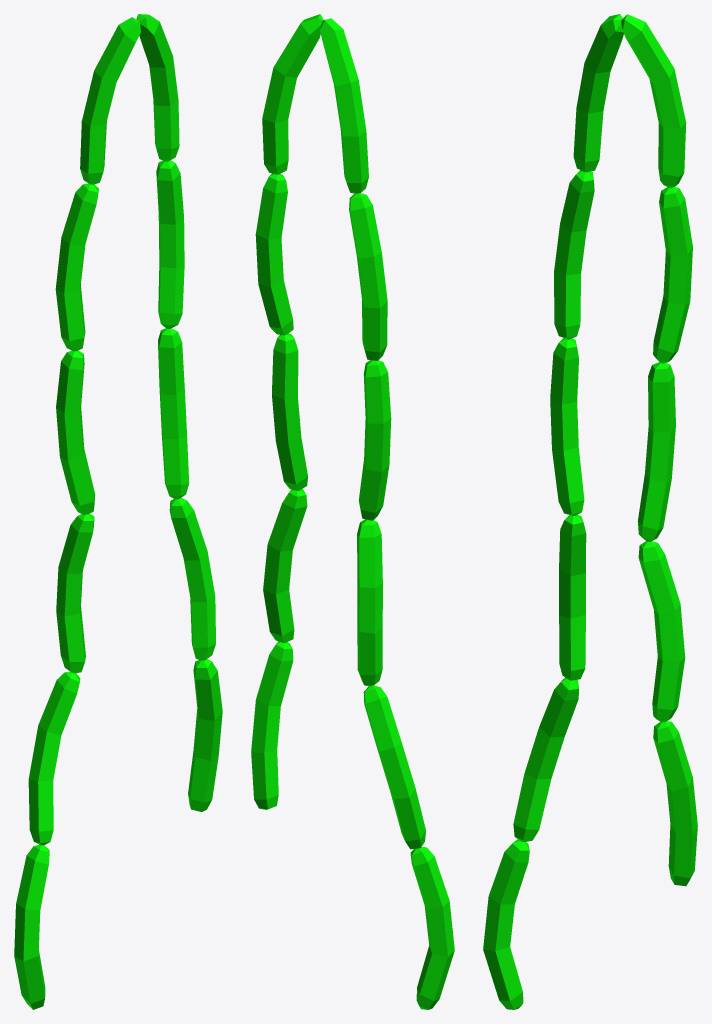
Rendered from SM_Sausages_Thin.fbx.
3 views of the same model, side by side, from view 1: azimuth 30°, elevation 25°; view 2: azimuth 150°, elevation 25°; view 3: azimuth 330°, elevation 25° (orthographic). The views are drawn at different scales.
Visible parts, largest first — view 1: sausages-thin; view 2: sausages-thin; view 3: sausages-thin.
Part boxes in pixels (x1=…): sausages-thin: x1=14, y1=14, x2=222, y2=1009; sausages-thin: x1=251, y1=14, x2=454, y2=1009; sausages-thin: x1=483, y1=14, x2=697, y2=1009.
Bounding box in the file's own units: 0.293 × 1.36 × 0.0942.
